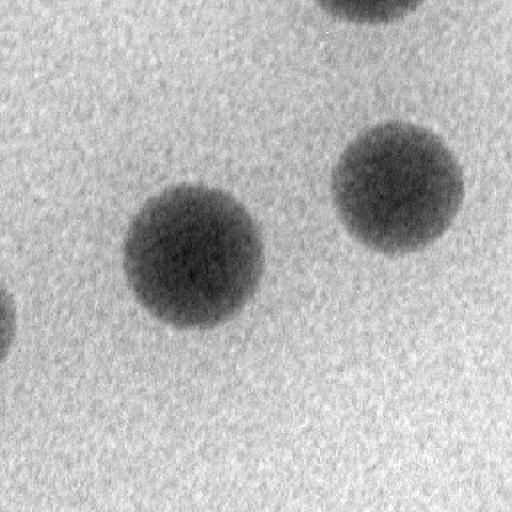Nanoparticles: (122, 183, 266, 327), (328, 119, 466, 253), (318, 0, 429, 24), (1, 285, 19, 363)
